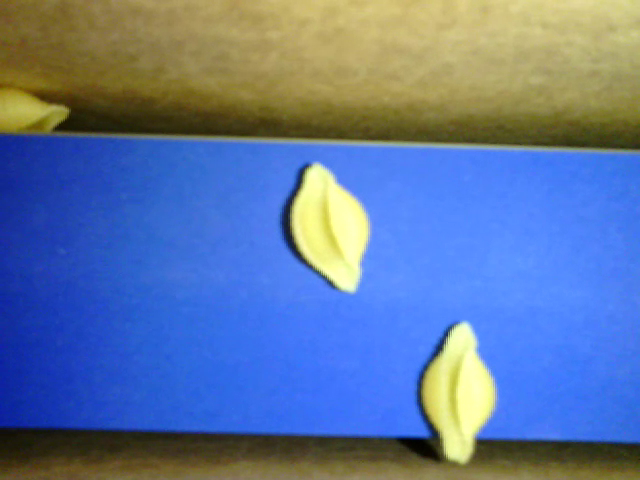shell: (286, 159, 372, 294), (418, 319, 497, 464), (1, 86, 73, 136)
